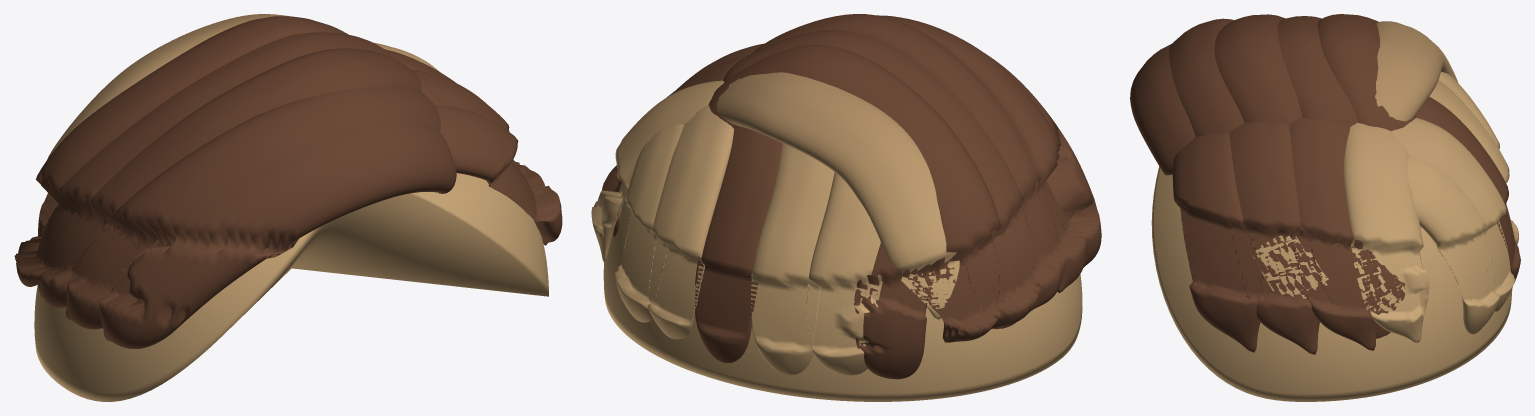
The model's file is Highlights-d1d5c7b8f995251-hair.glb.
3 views of the same model, side by side, from view 1: azimuth 30°, elevation 25°; view 2: azimuth 150°, elevation 25°; view 3: azimuth 270°, elevation 25° (orthographic). The views are drawn at different scales.
Parts seen in each view (by area): view 1: 226 hair / Hair / sculpted 0.002, 226 hair / Hair / sculpted 1.003, 226 hair / Hair / sculpted 1, 226 hair / Hair / sculpted 2.002; view 2: 226 hair / Hair / sculpted 1.003, 226 hair / Hair / sculpted 0.002, 226 hair / Hair / sculpted 2.002, 226 hair / Hair / sculpted 1; view 3: 226 hair / Hair / sculpted 1.003, 226 hair / Hair / sculpted 0.002, 226 hair / Hair / sculpted 2.002, 226 hair / Hair / sculpted 1.
Boxes of the visible parts, x1,y1,x2,y2 form: 226 hair / Hair / sculpted 0.002: [16, 32, 562, 348]; 226 hair / Hair / sculpted 1.003: [14, 14, 544, 329]; 226 hair / Hair / sculpted 1: [34, 173, 548, 401]; 226 hair / Hair / sculpted 2.002: [40, 48, 519, 307]; 226 hair / Hair / sculpted 1.003: [612, 15, 1086, 375]; 226 hair / Hair / sculpted 0.002: [591, 30, 1101, 379]; 226 hair / Hair / sculpted 2.002: [602, 14, 1064, 375]; 226 hair / Hair / sculpted 1: [603, 198, 1082, 401]; 226 hair / Hair / sculpted 1.003: [1169, 14, 1515, 354]; 226 hair / Hair / sculpted 0.002: [1130, 16, 1520, 352]; 226 hair / Hair / sculpted 2.002: [1214, 14, 1518, 350]; 226 hair / Hair / sculpted 1: [1151, 166, 1512, 401].
Bounding box in the file's own units: 0.9751 × 0.572 × 0.7583.
